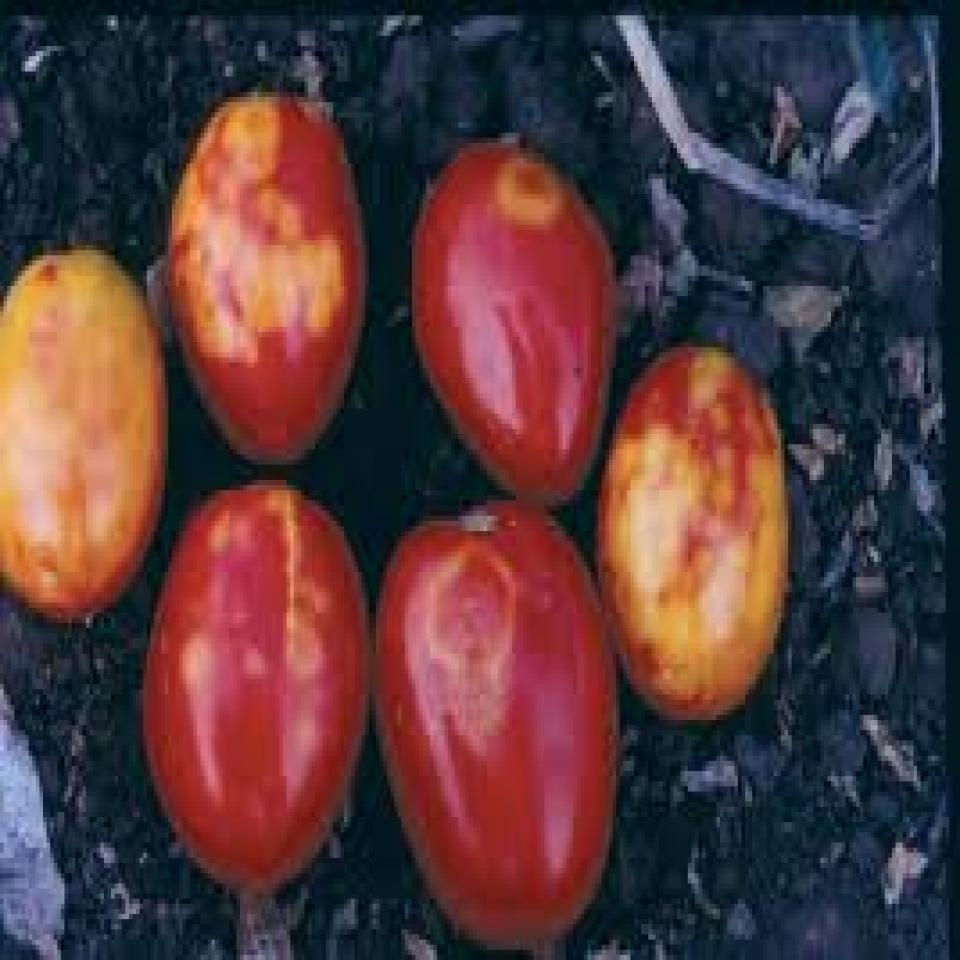Spotted wilt Virus: (373, 506, 616, 960), (143, 485, 369, 889), (412, 138, 623, 516), (165, 92, 365, 475), (591, 347, 788, 730), (0, 245, 168, 628)
